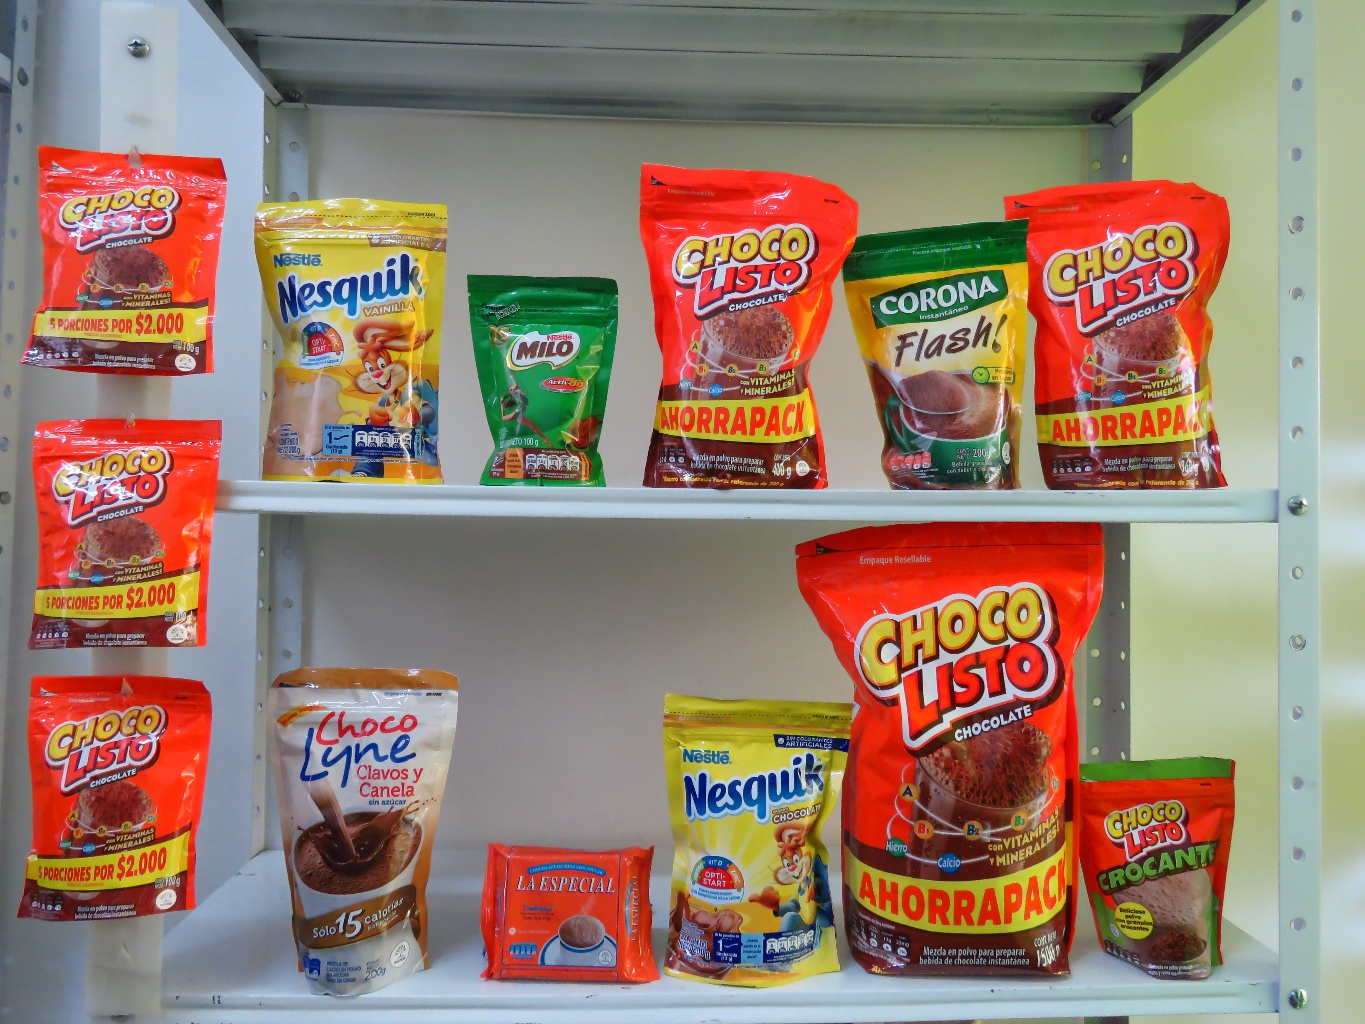COL0170102DYP10000: (1081, 737, 1240, 975)
COL0170103DYP1,500: (795, 517, 1105, 980)
COL0170103DYP10000: (16, 675, 213, 919)
COL0170103DYP36000: (1010, 174, 1232, 496)
COL0170103DYP40000: (640, 144, 843, 487)
COL0170203DYP10000: (454, 269, 622, 496)
COL0170303DYP20000: (663, 695, 869, 996)
COL0170306DYP20000: (244, 184, 456, 486)
